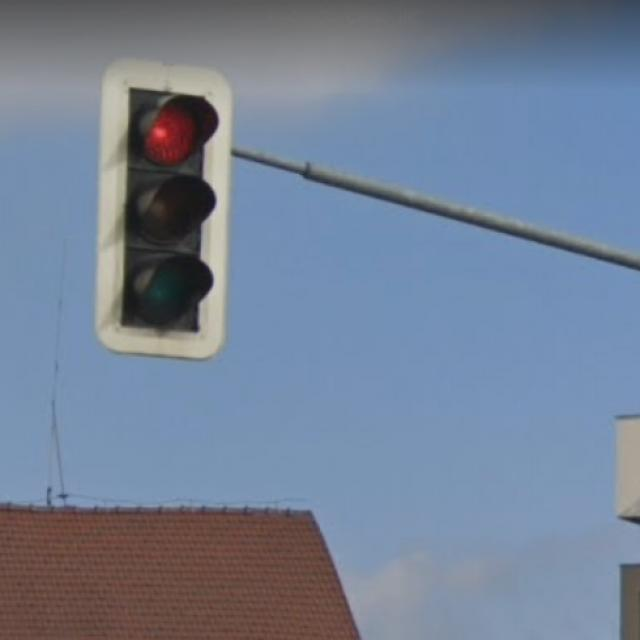red_light: (98, 62, 232, 359)
